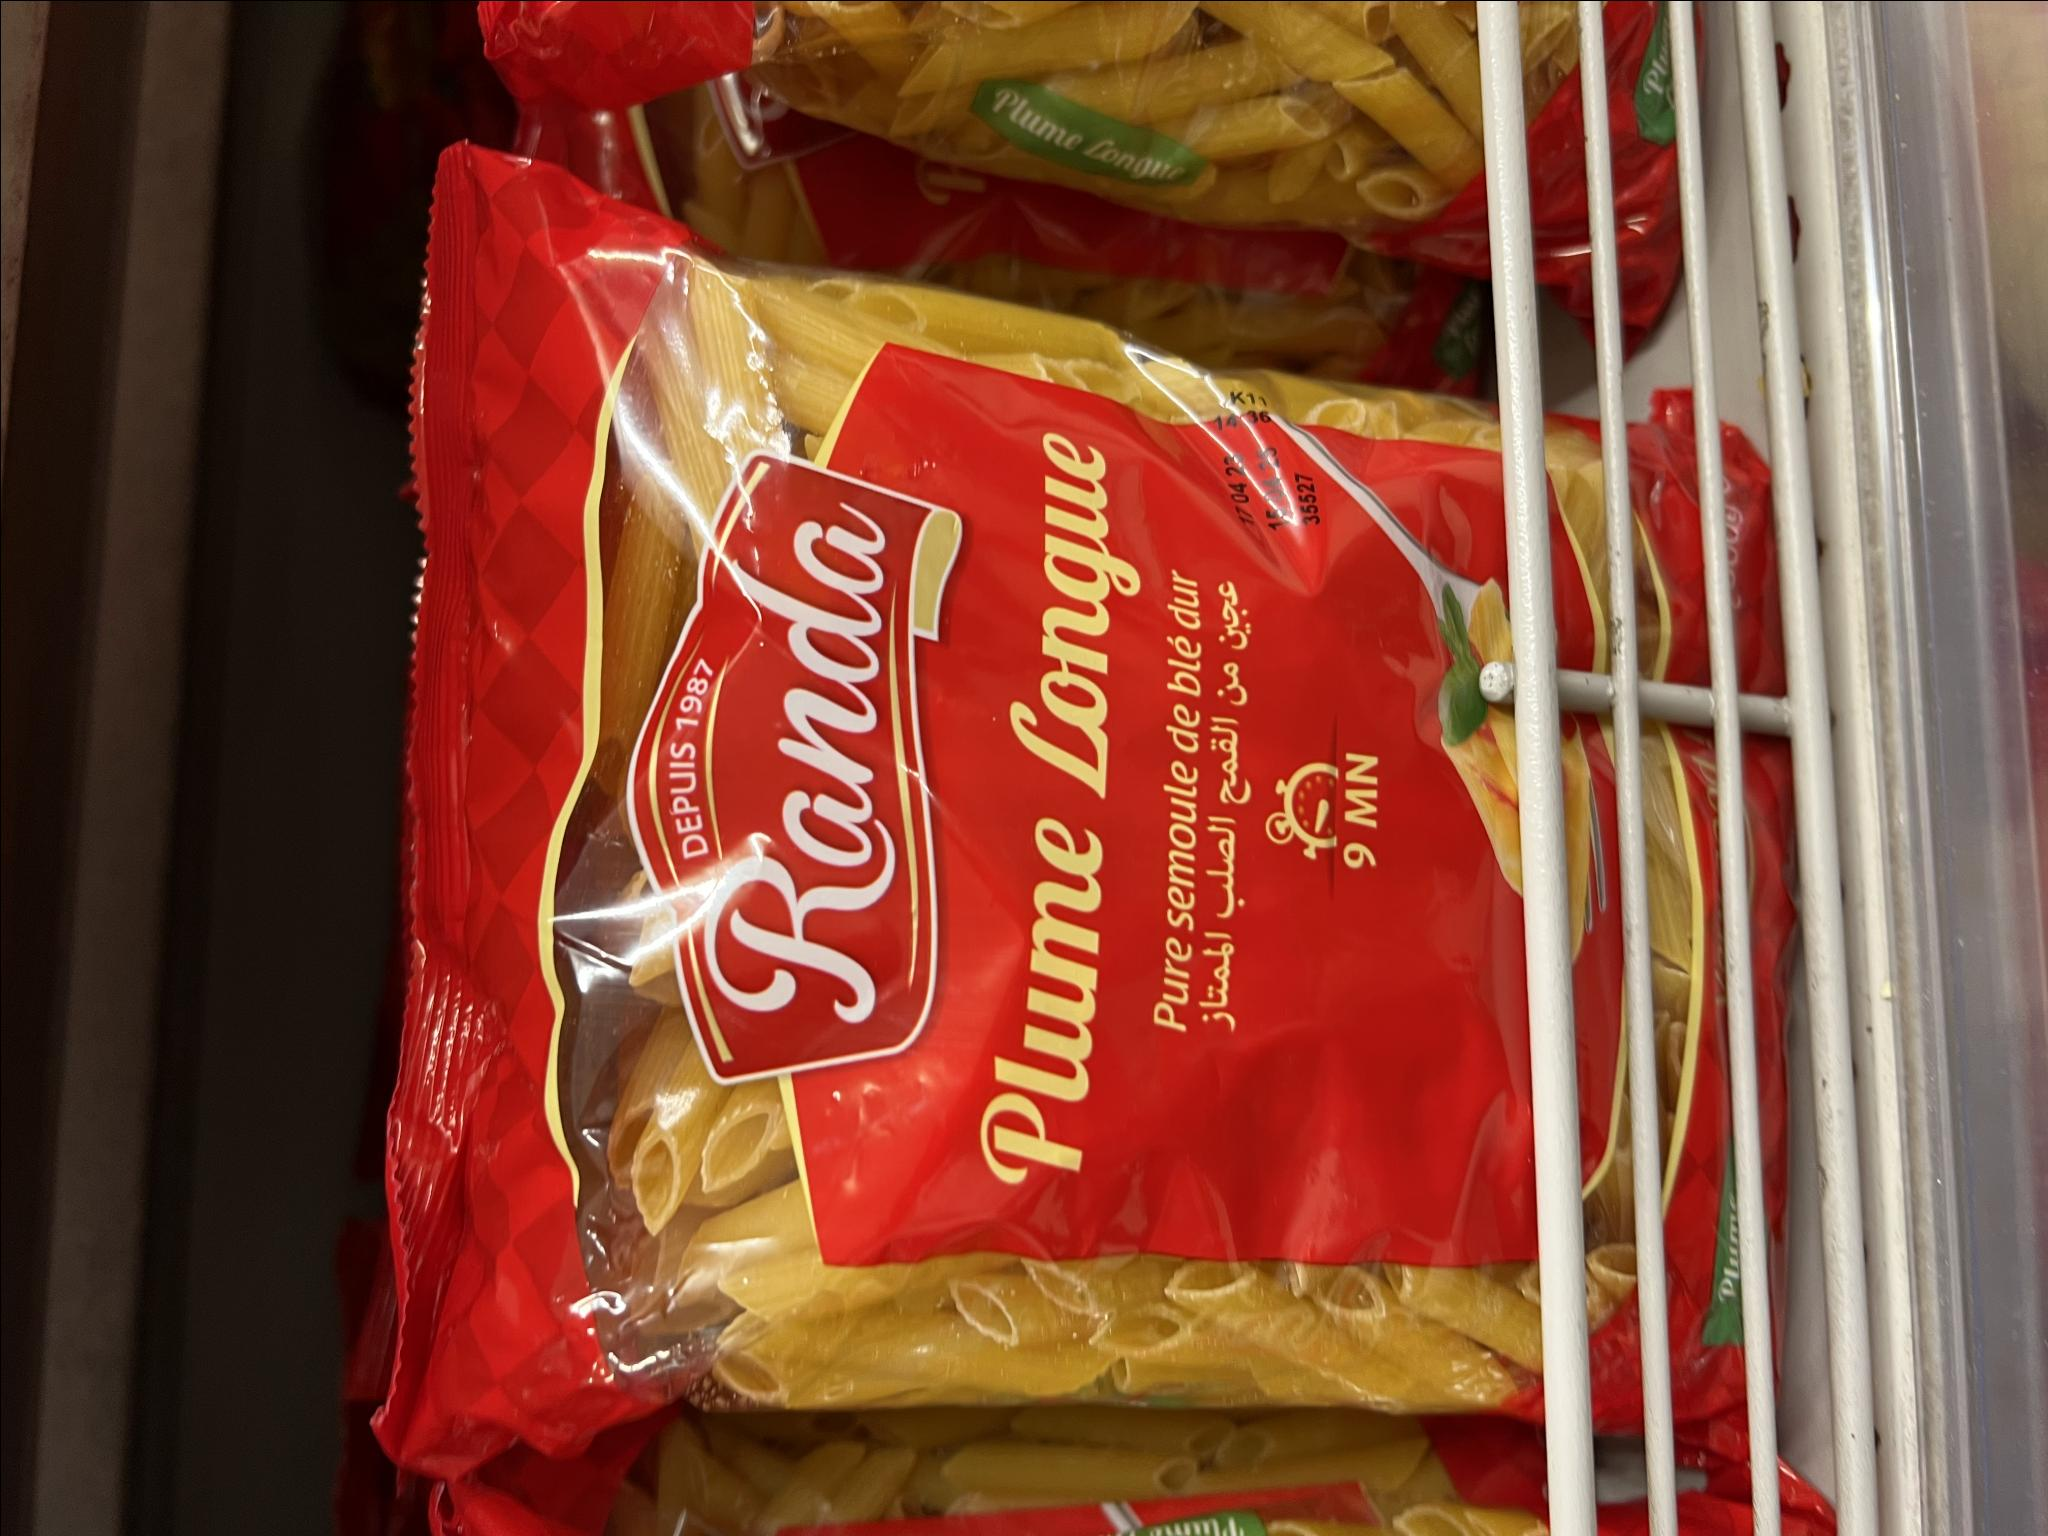plume: (408, 155, 1742, 1442)
